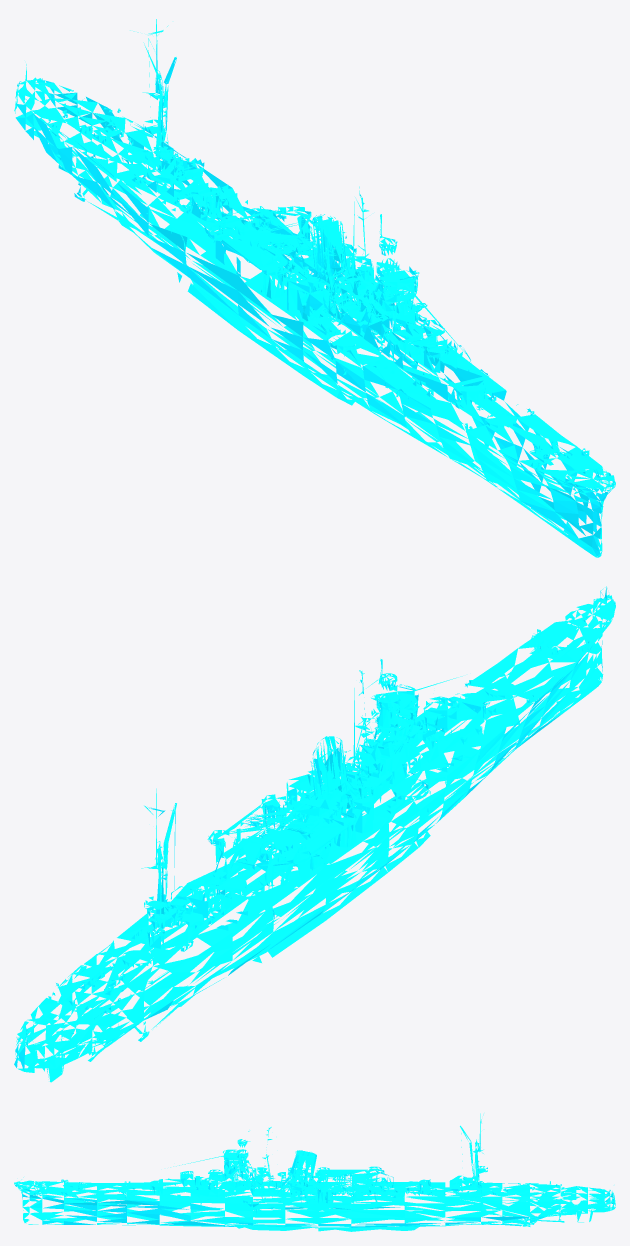
The model's file is Yahagi.glb.
3 views of the same model, one above another, from view 1: azimuth 30°, elevation 25°; view 2: azimuth 150°, elevation 25°; view 3: azimuth 270°, elevation 25° (orthographic). The views are drawn at different scales.
Bounding box in the file's own units: 1.11 × 2.42 × 11.63.
